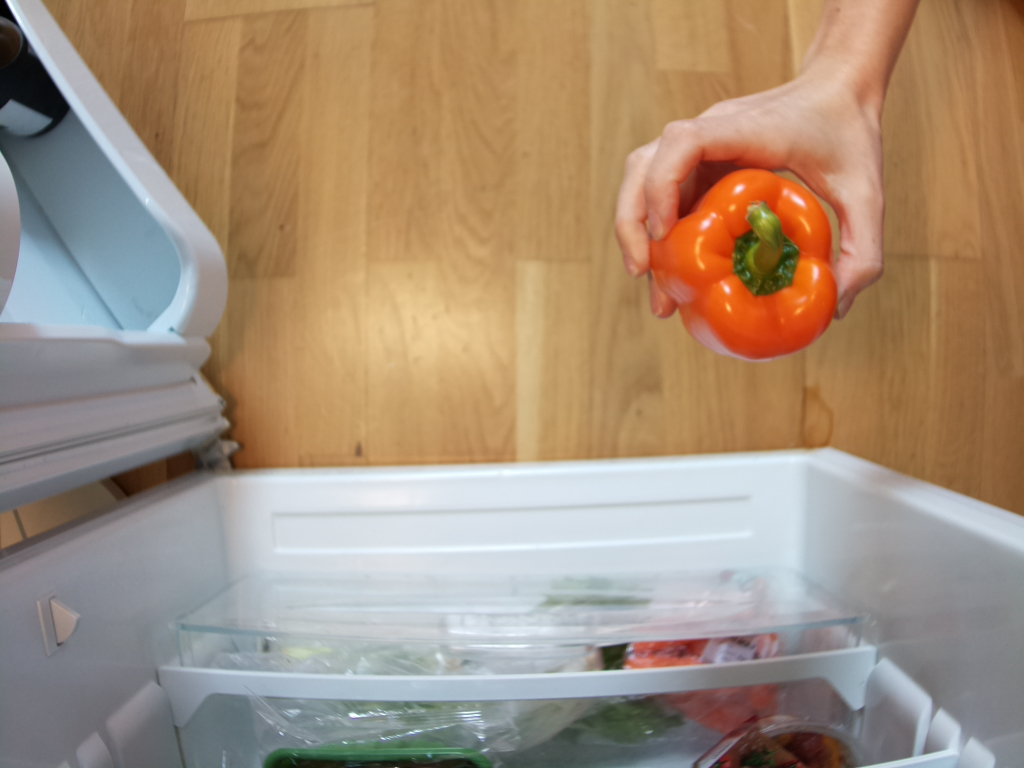pepper: (647, 166, 836, 361)
